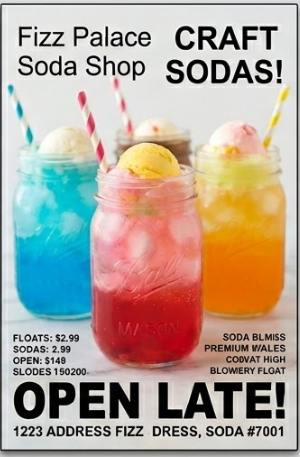CTA: (13, 379, 290, 423)
Headline: (17, 23, 285, 89)
Price: (12, 331, 80, 364)
Product: (23, 130, 284, 362)
